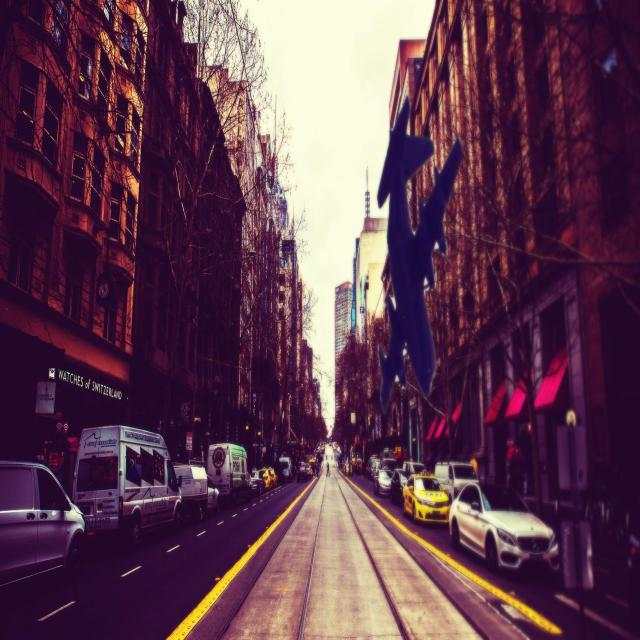airplane: (376, 94, 463, 414)
